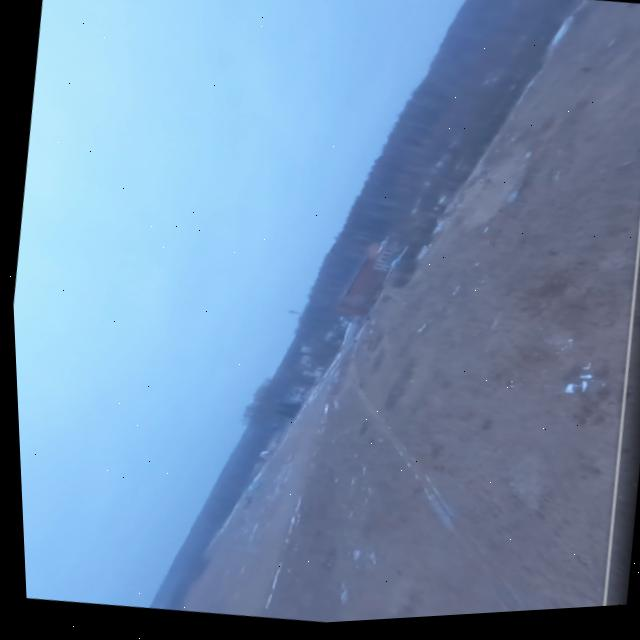planedrone: (384, 241, 412, 282)
